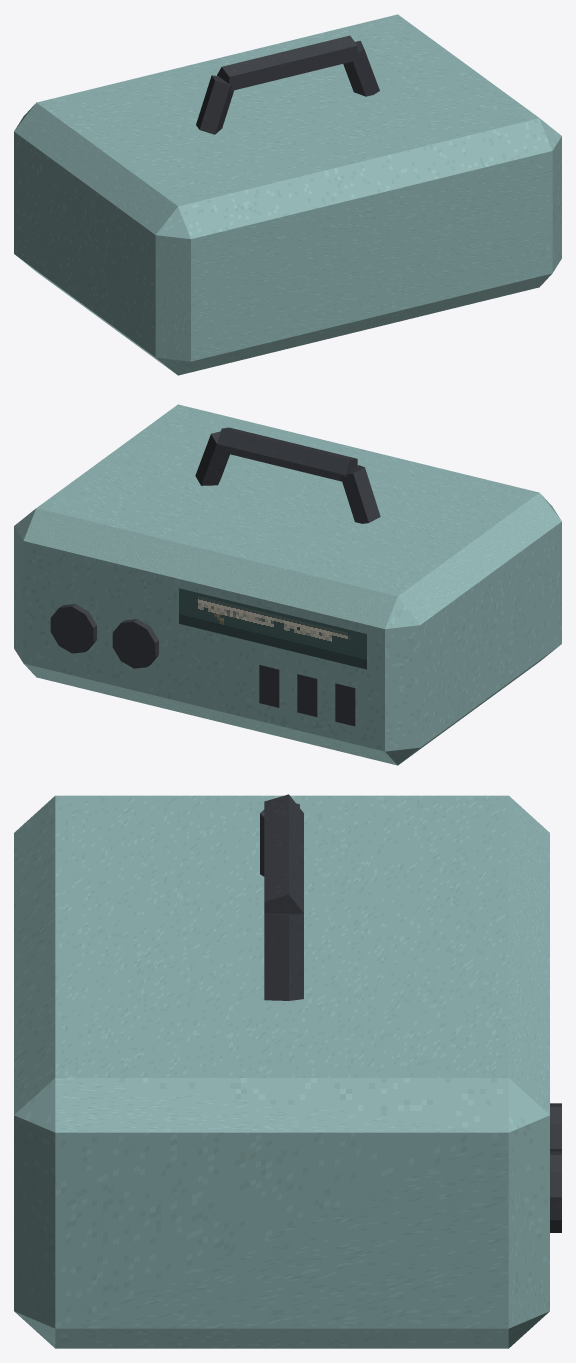
The model's file is power_station_portable.glb.
3 renders of one model, top to bottom at view 1: azimuth 30°, elevation 25°; view 2: azimuth 150°, elevation 25°; view 3: azimuth 270°, elevation 25°, orthographic. The views are drawn at different scales.
Visible parts, largest first — view 1: block_enclosure, block_handle 1, block_handle 0, block_handle 2; view 2: block_enclosure, block_voltage and status, block_socket recess (×2), block_handle 1, block_air vent (×3), block_handle 0, block_handle 2; view 3: block_enclosure, block_handle 1, block_handle 2, block_socket recess.
Boxes of the visible parts, x1,y1,x2,y2 form: block_enclosure: (14, 14, 561, 375); block_handle 1: (217, 35, 357, 91); block_handle 0: (196, 75, 233, 134); block_handle 2: (343, 41, 379, 96); block_enclosure: (14, 404, 561, 765); block_voltage and status: (179, 588, 366, 669); block_socket recess (×2): (50, 604, 158, 668); block_handle 1: (217, 427, 357, 481); block_air vent (×3): (259, 665, 355, 726); block_handle 0: (340, 465, 380, 523); block_handle 2: (195, 431, 229, 485); block_enclosure: (14, 795, 549, 1348); block_handle 1: (264, 794, 303, 913); block_handle 2: (264, 913, 303, 1000); block_socket recess: (550, 1151, 561, 1232).
Bounding box in the file's own units: 0.405 × 0.2162 × 0.2957.
Materials: 1 (1 with a texture image).
